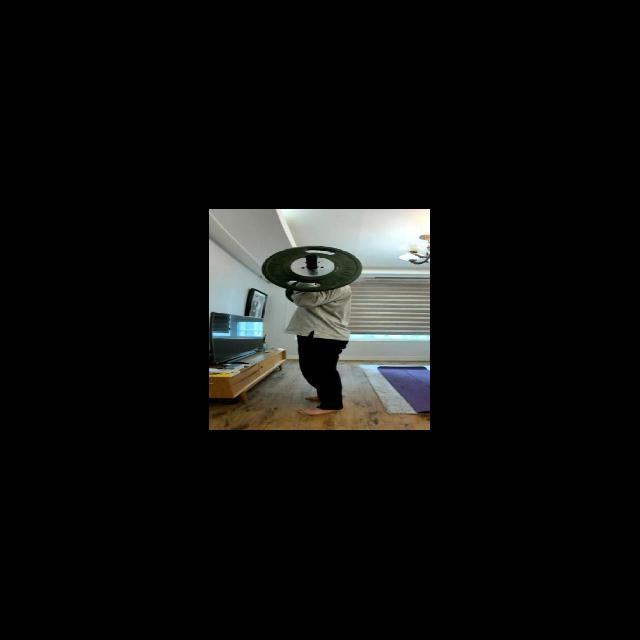barbell: (258, 242, 367, 294)
